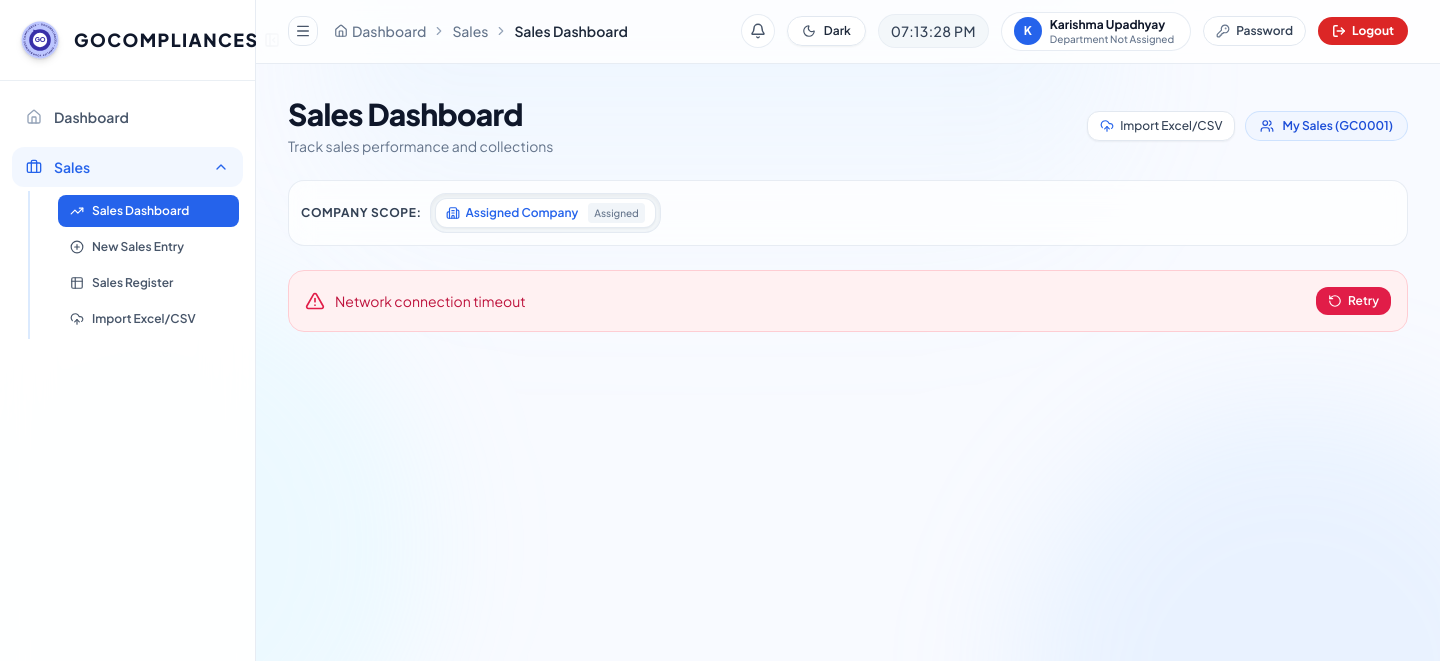
Sales Dashboard Frontend Integration › renders error state with retry button on API failure
The width and height of the screenshot is (1440, 661).
Expected: the heading "Sales Dashboard" is shown, [288,96,554,132]
# Click Retry
Click the button "Retry": (1354, 300) [1316,286,1391,314]
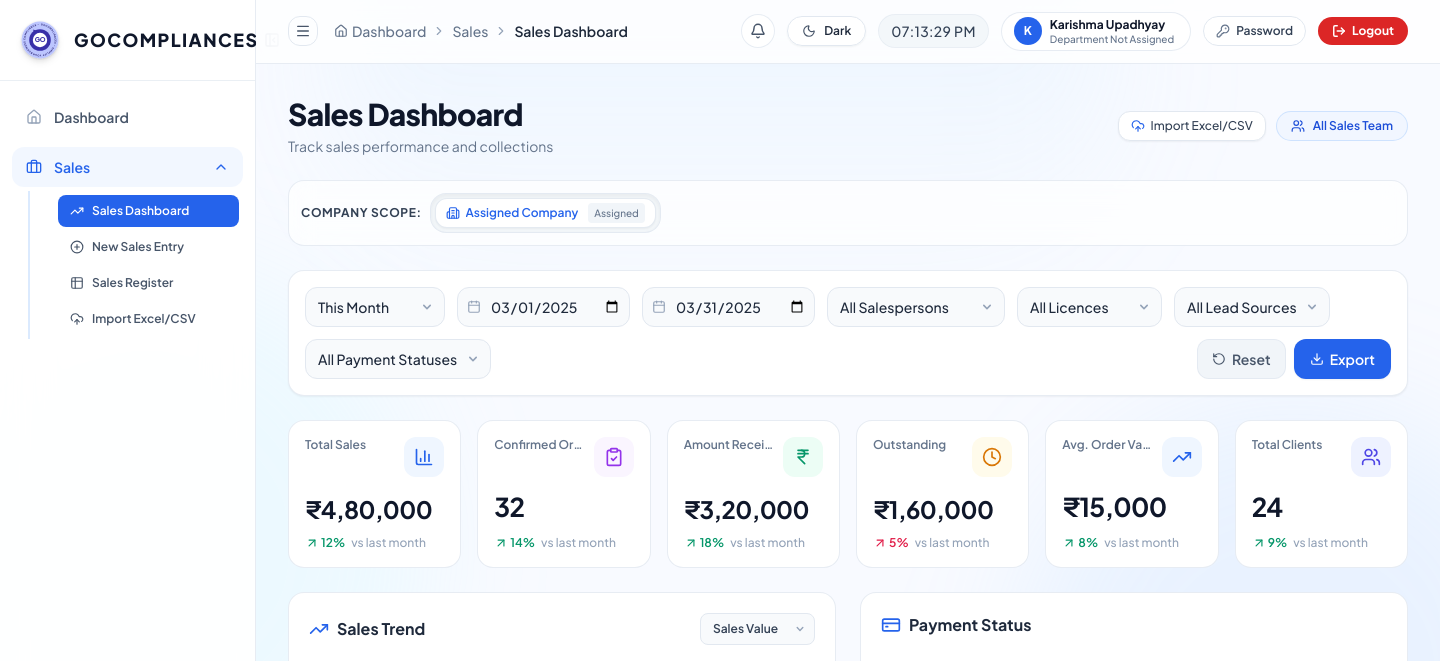
Expected: the text "₹4,80,000" is shown, [305,492,444,524]
